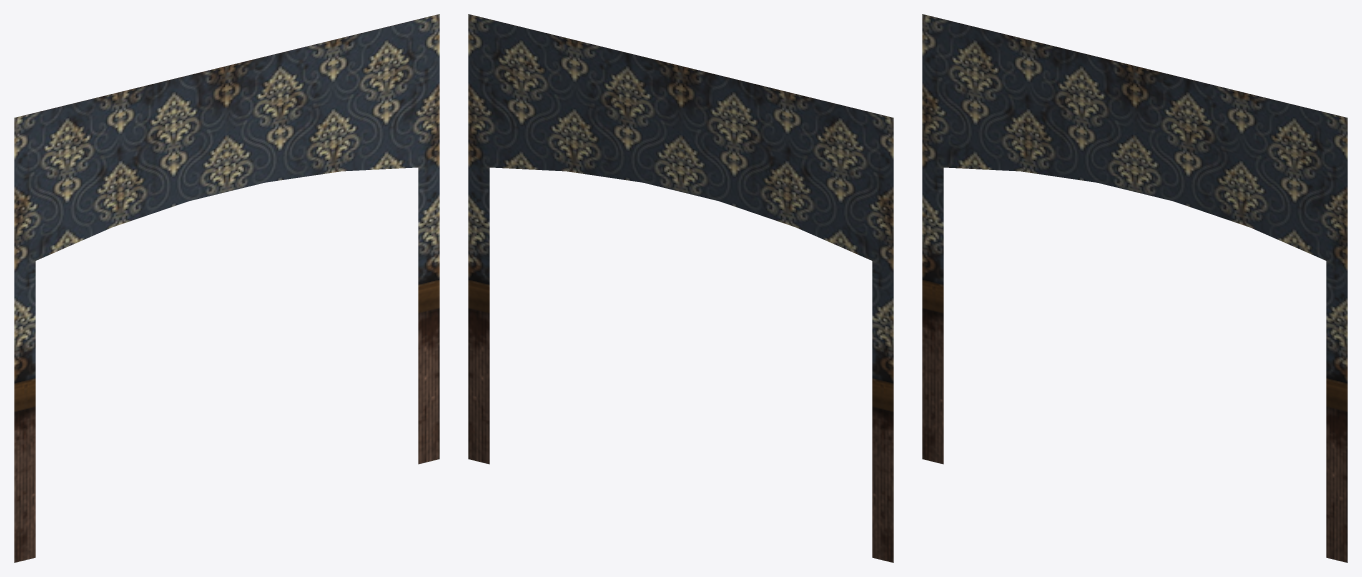
The model's file is wall_blue_007.obj.
3 views of the same model, side by side, from view 1: azimuth 30°, elevation 25°; view 2: azimuth 150°, elevation 25°; view 3: azimuth 330°, elevation 25° (orthographic).
Visible parts, largest first — view 1: Wall_Archway_Wide; view 2: Wall_Archway_Wide; view 3: Wall_Archway_Wide.
Boxes of the visible parts, bbox=[...] form: Wall_Archway_Wide: bbox=[14, 14, 439, 562]; Wall_Archway_Wide: bbox=[468, 14, 893, 562]; Wall_Archway_Wide: bbox=[922, 14, 1347, 562].
Bounding box in the file's own units: 3 × 3 × 0.
Materials: 1 (1 with a texture image).
